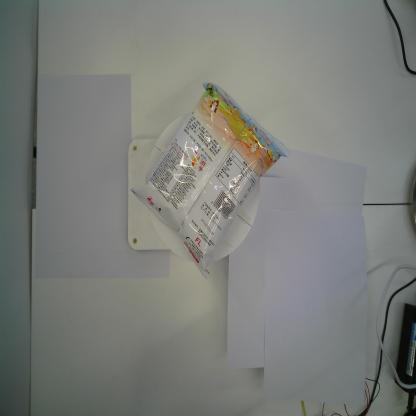Puffed Food: (124, 78, 290, 284)
